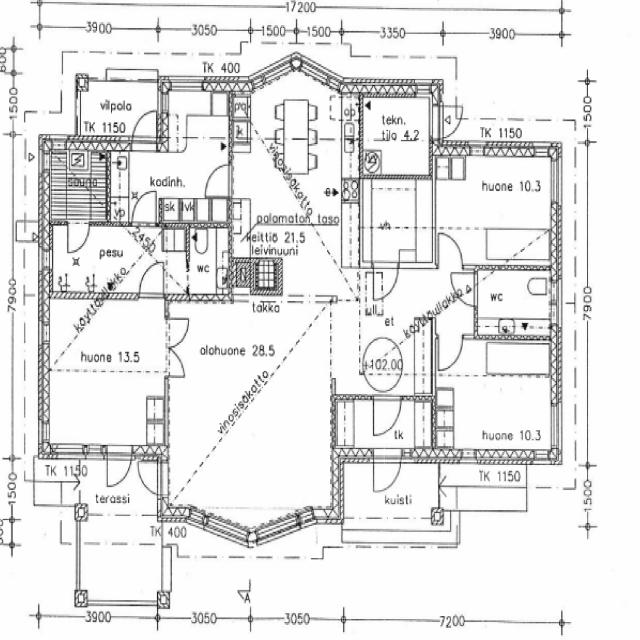door: (374, 446, 401, 498), (374, 395, 402, 438), (132, 101, 156, 150), (108, 447, 132, 494), (134, 462, 168, 495), (433, 106, 467, 138), (139, 260, 164, 299), (373, 265, 398, 304), (450, 272, 478, 306), (132, 188, 156, 227), (204, 165, 233, 197), (439, 233, 463, 271), (440, 333, 463, 371), (164, 318, 190, 348), (164, 348, 190, 377), (68, 221, 89, 256)
